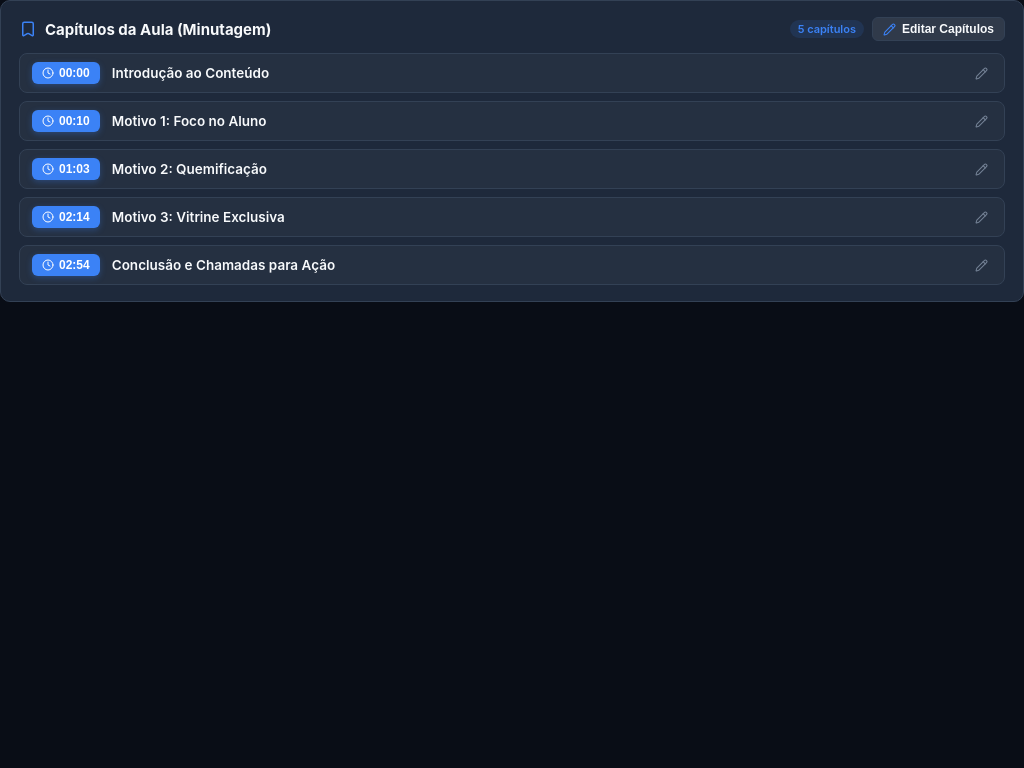
it: Lesson Chapters and Editing Functionality › opens edit modal when manager clicks "Editar Capítulos"
Click the button with test id "btn-open-edit-chapters-modal".
click(938, 29)  # box [872,17,1005,41]
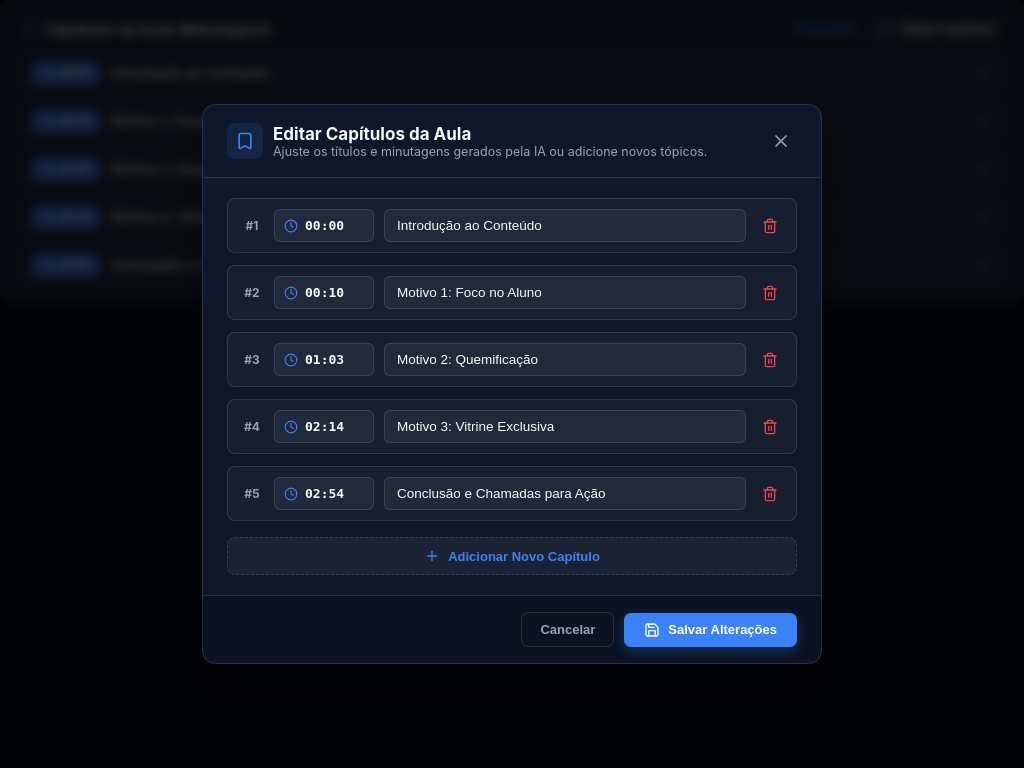
Check: the element with test id "edit-chapters-modal-content" is shown, box [202,104,822,664]
Check: the heading "Editar Capítulos da Aula" is shown, box [273,124,471,144]
